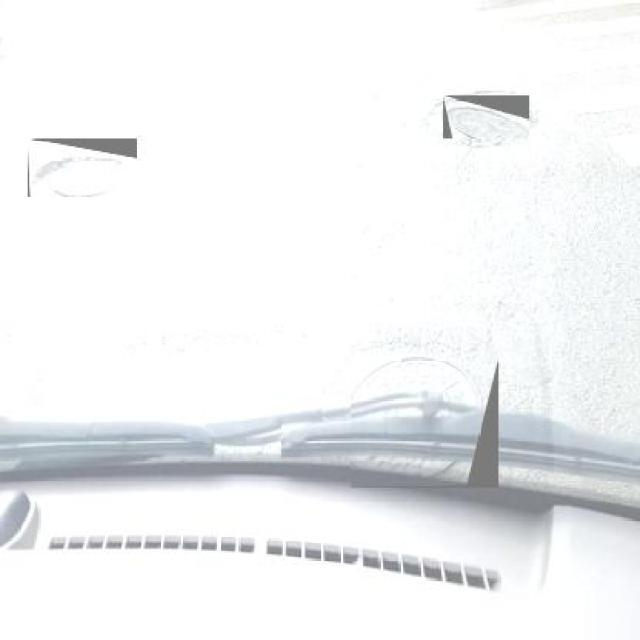Manhole: (348, 358, 496, 486), (28, 138, 137, 197), (444, 95, 530, 138)
